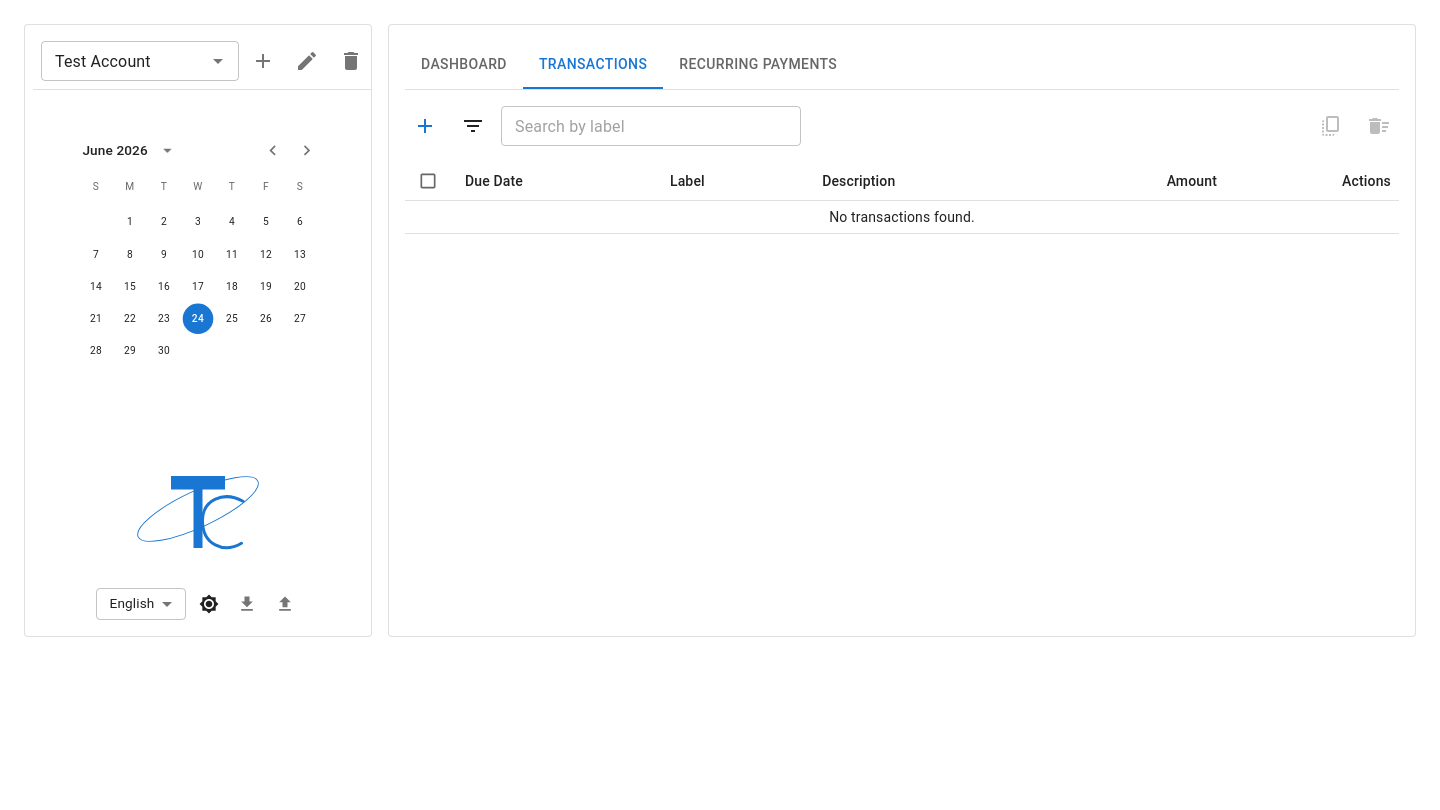
Scenario: TransactionEditionArea › shows export dialog when download button is clicked
Click the button named "export". click: (247,604)
box: x1=232 y1=589 x2=262 y2=619
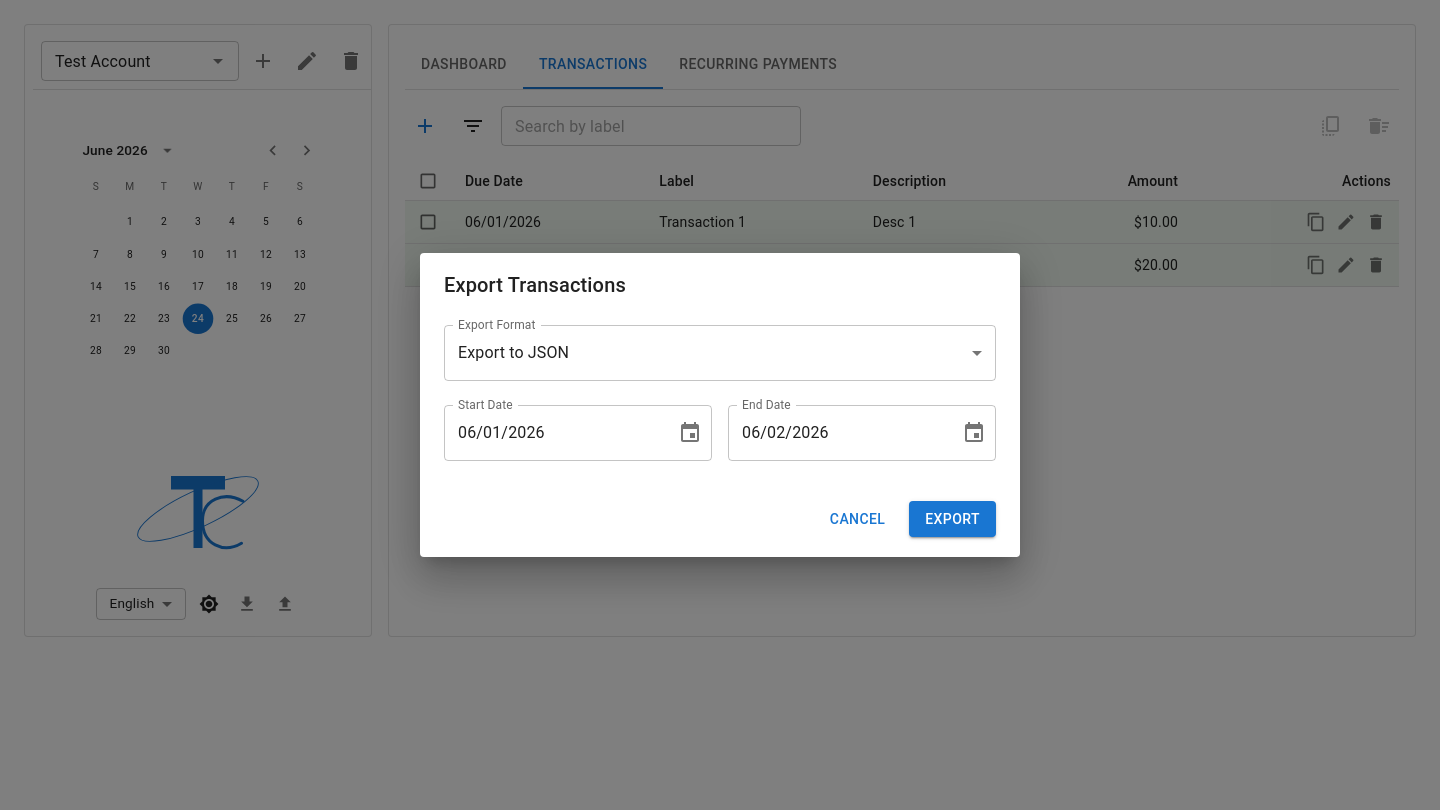
expect the heading "Export Transactions" is shown: met, box x1=444 y1=273 x2=626 y2=297
